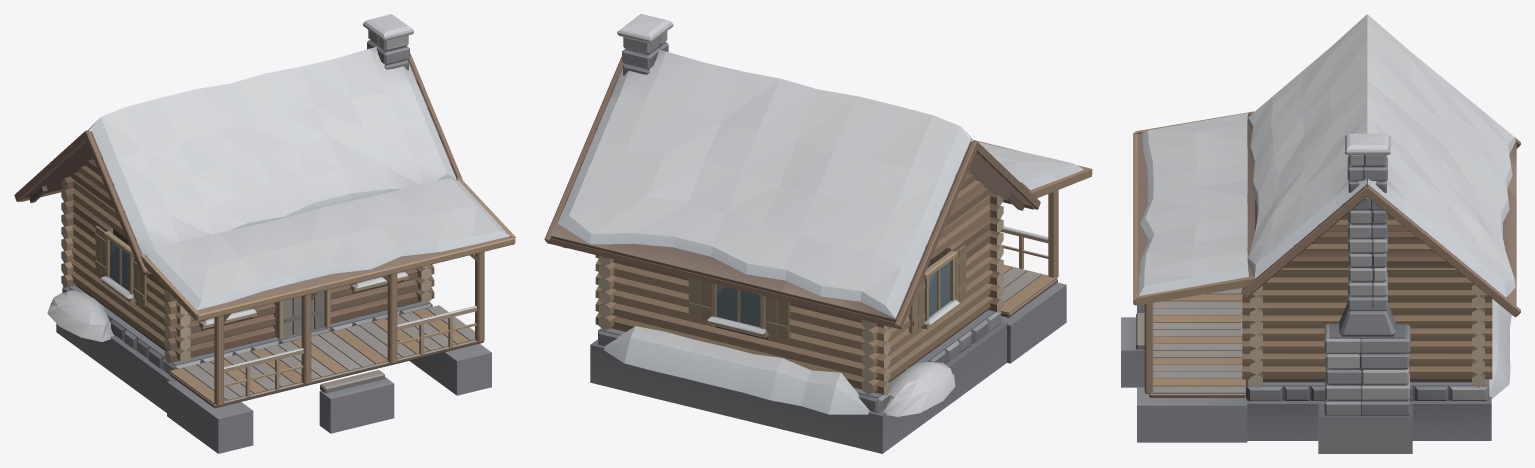
The model's file is cabin.glb.
The picture shows the model from 3 angles, left to right: view 1: azimuth 30°, elevation 25°; view 2: azimuth 150°, elevation 25°; view 3: azimuth 270°, elevation 25°; orthographic projection. The views are drawn at different scales.
Size of the model in its own units: 10.2 by 8.56 by 10.14.
